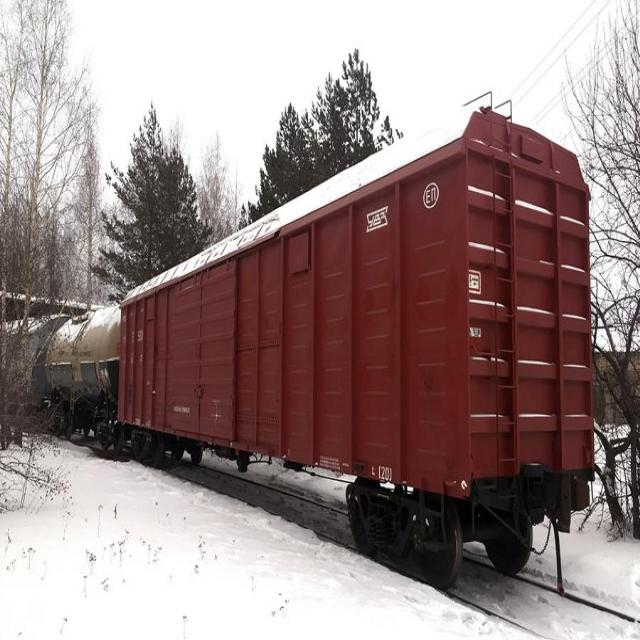boxcar: (109, 90, 599, 592)
tank: (40, 300, 120, 440)
